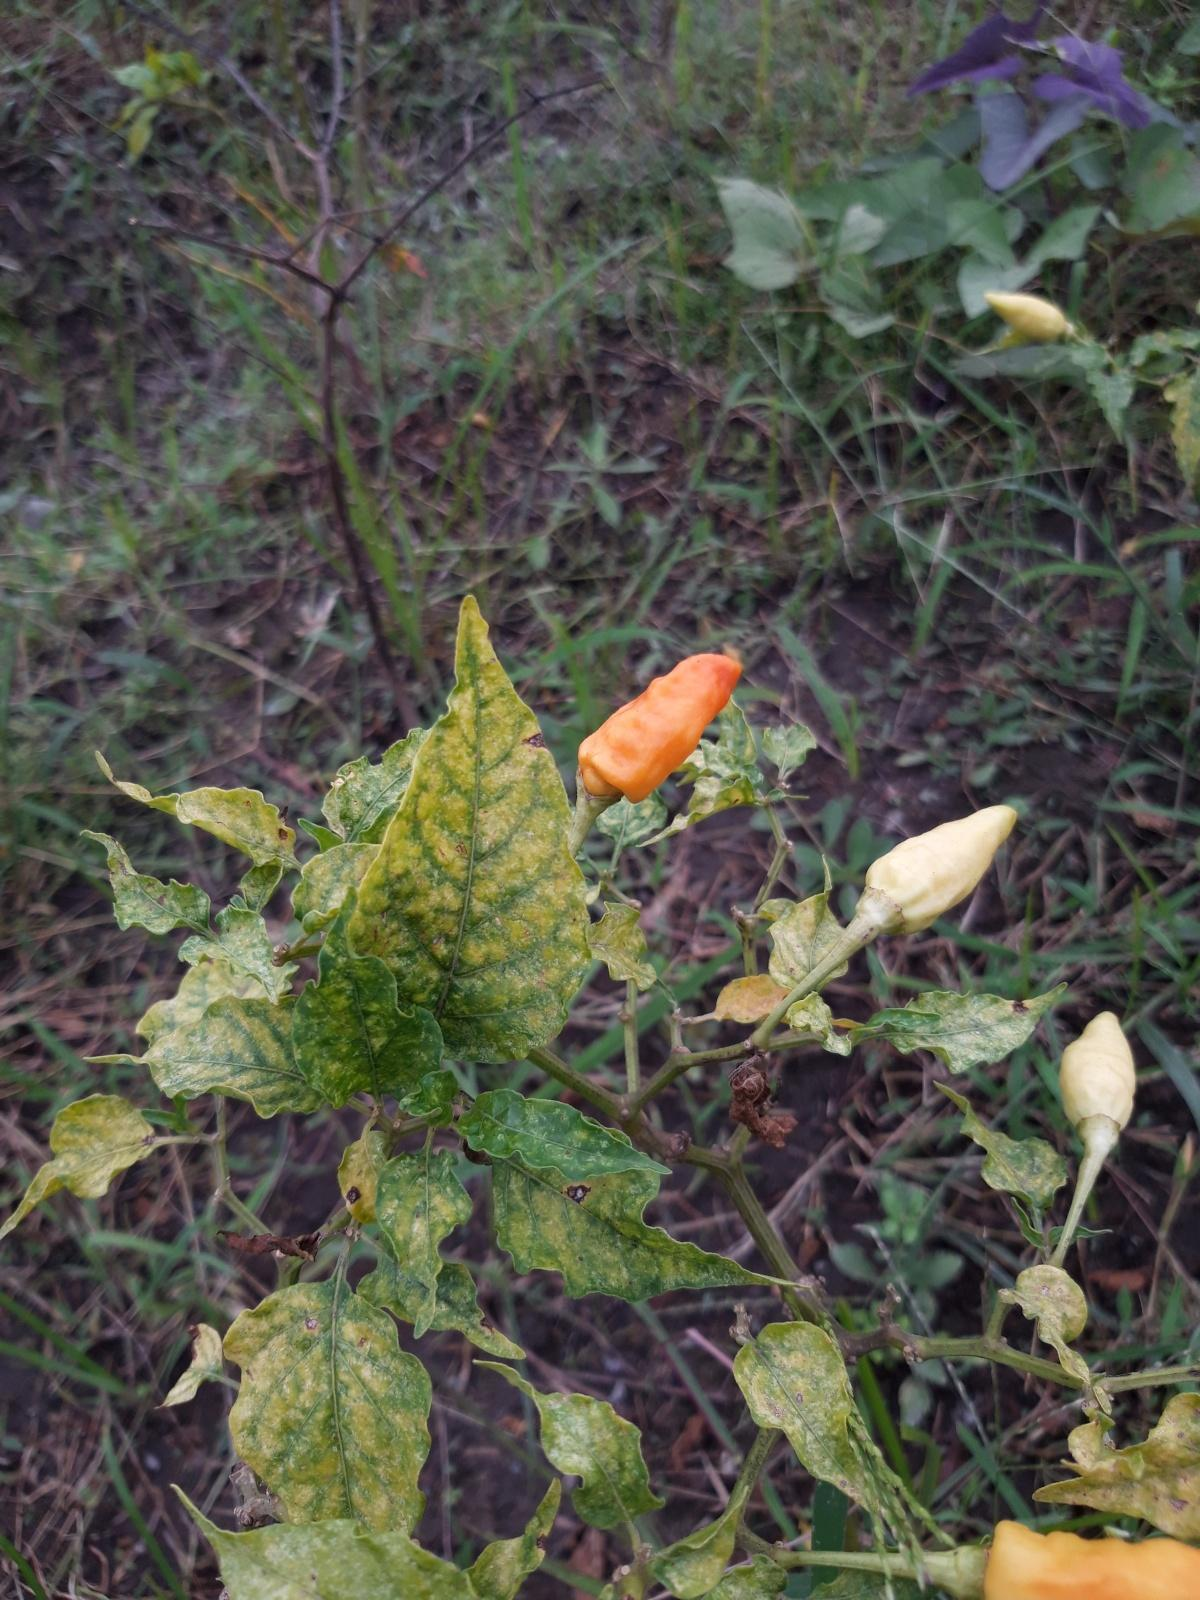cabai_normal: (581, 654, 742, 803), (863, 804, 1018, 936), (984, 1519, 1200, 1600), (1060, 1010, 1137, 1138), (984, 291, 1066, 340)
